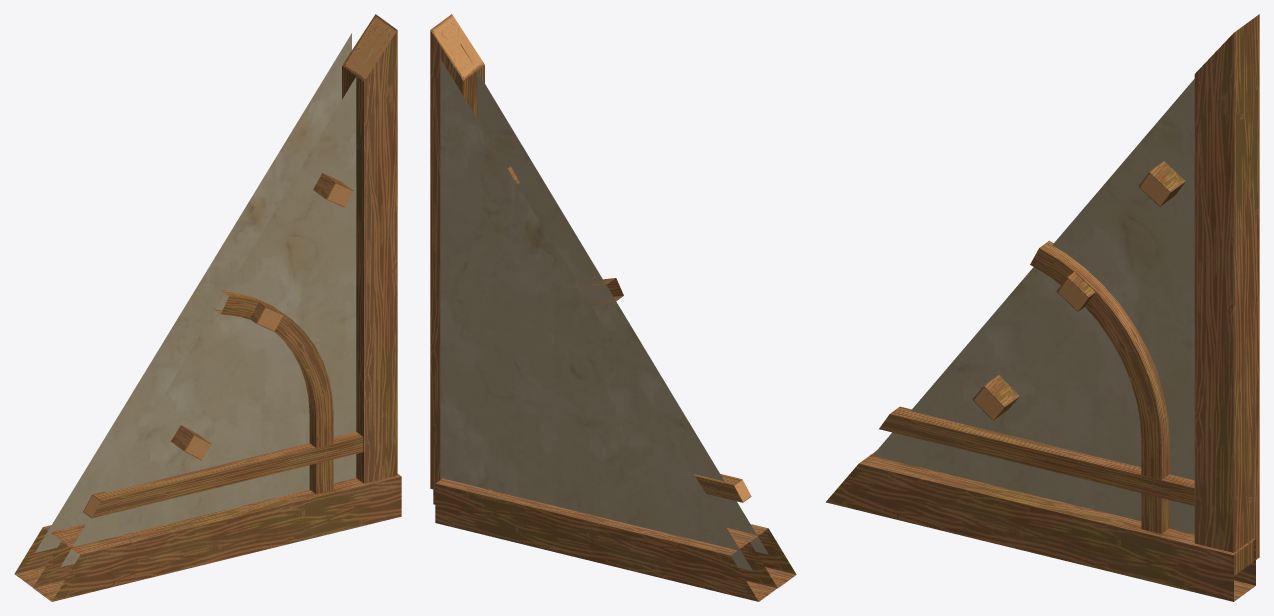
The model's file is Roof_Front_Brick4_Half_L.glb.
The picture shows the model from 3 angles, left to right: view 1: azimuth 30°, elevation 25°; view 2: azimuth 150°, elevation 25°; view 3: azimuth 330°, elevation 25°; orthographic projection. The views are drawn at different scales.
Parts seen in each view (by area): view 1: Roof_Front_Brick4_Half_L; view 2: Roof_Front_Brick4_Half_L; view 3: Roof_Front_Brick4_Half_L.
Part boxes in pixels (<box>): Roof_Front_Brick4_Half_L: <box>14,14,401,601</box>; Roof_Front_Brick4_Half_L: <box>430,14,796,601</box>; Roof_Front_Brick4_Half_L: <box>826,14,1259,601</box>.
Bounding box in the file's own units: 2.41 × 3.2 × 0.4894.
2 materials, 2 textured.
